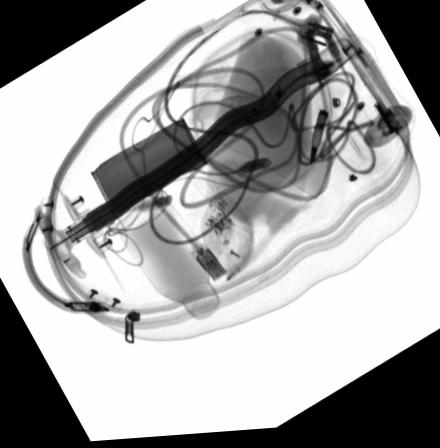Bullet: (309, 113, 328, 167)
